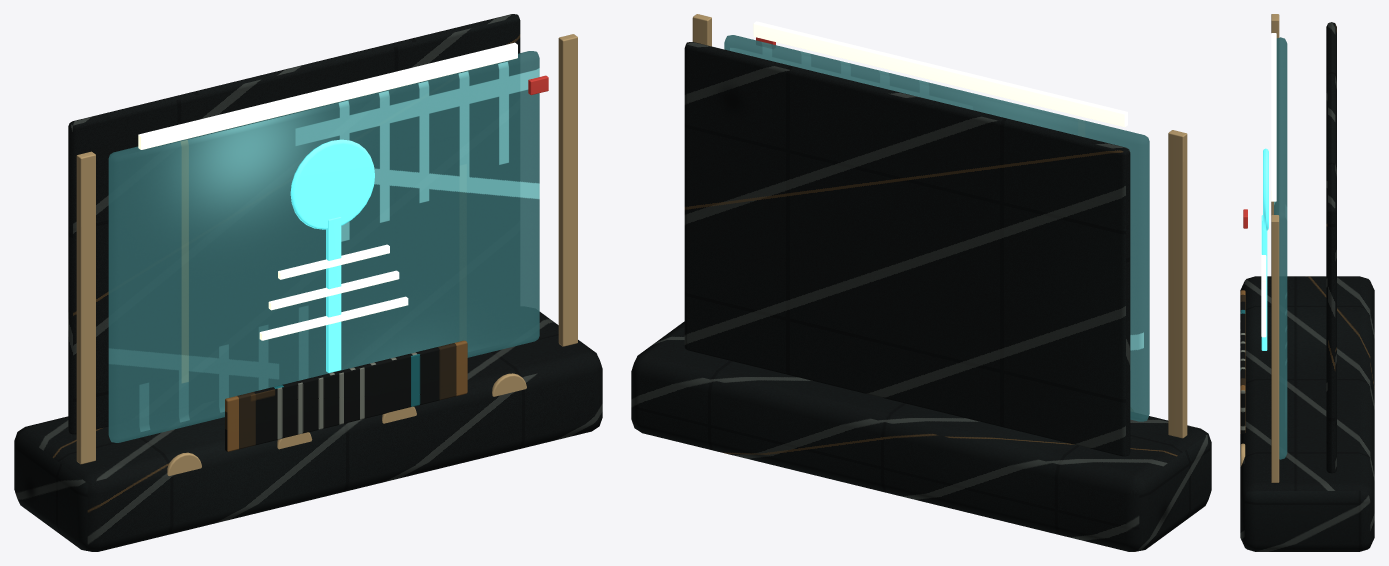
The model's file is hp_room_museum_body_reference_case.glb.
3 renders of one model, left to right at view 1: azimuth 30°, elevation 25°; view 2: azimuth 150°, elevation 25°; view 3: azimuth 270°, elevation 25°, orthographic. The views are drawn at different scales.
Parts seen in each view (by area): view 1: body_reference_glass, body_case_stone_base, rear_black_exhibit_backing, body_label_panel, body_case_top_warm_lamp, body_case_tall_brass_frame, body_case_tall_brass_frame.001, abstract_head_marker, abstract_spine_marker, abstract_rib_0, abstract_rib_1, abstract_rib_2; view 2: rear_black_exhibit_backing, body_case_stone_base, body_reference_glass, body_case_top_warm_lamp, body_case_tall_brass_frame; view 3: body_case_stone_base, rear_black_exhibit_backing, body_reference_glass, body_case_tall_brass_frame.001, body_case_top_warm_lamp, body_label_panel, abstract_head_marker, abstract_spine_marker, body_case_tall_brass_frame.
Boxes of the visible parts, bbox=[...] form: body_reference_glass: bbox=[108, 51, 539, 442]; body_case_stone_base: bbox=[14, 311, 602, 551]; rear_black_exhibit_backing: bbox=[68, 14, 520, 434]; body_label_panel: bbox=[225, 340, 467, 451]; body_case_top_warm_lamp: bbox=[138, 42, 517, 149]; body_case_tall_brass_frame: bbox=[76, 151, 95, 464]; body_case_tall_brass_frame.001: bbox=[558, 34, 577, 346]; abstract_head_marker: bbox=[290, 139, 374, 229]; abstract_spine_marker: bbox=[326, 217, 341, 372]; abstract_rib_0: bbox=[259, 296, 408, 340]; abstract_rib_1: bbox=[268, 270, 399, 310]; abstract_rib_2: bbox=[278, 244, 389, 279]; rear_black_exhibit_backing: bbox=[684, 42, 1130, 456]; body_case_stone_base: bbox=[631, 321, 1211, 551]; body_reference_glass: bbox=[724, 35, 1149, 421]; body_case_top_warm_lamp: bbox=[753, 21, 1127, 127]; body_case_tall_brass_frame: bbox=[1168, 130, 1187, 438]; body_case_stone_base: bbox=[1240, 276, 1374, 551]; rear_black_exhibit_backing: bbox=[1326, 22, 1336, 473]; body_reference_glass: bbox=[1274, 37, 1287, 459]; body_case_tall_brass_frame.001: bbox=[1271, 215, 1279, 482]; body_case_top_warm_lamp: bbox=[1271, 33, 1276, 201]; body_label_panel: bbox=[1240, 290, 1245, 434]; abstract_head_marker: bbox=[1263, 148, 1268, 230]; abstract_spine_marker: bbox=[1261, 215, 1267, 350]; body_case_tall_brass_frame: bbox=[1271, 14, 1279, 215].
Bounding box in the file's own units: 2.48 × 1.78 × 0.6434.
Materials: 8 (4 with a texture image).
